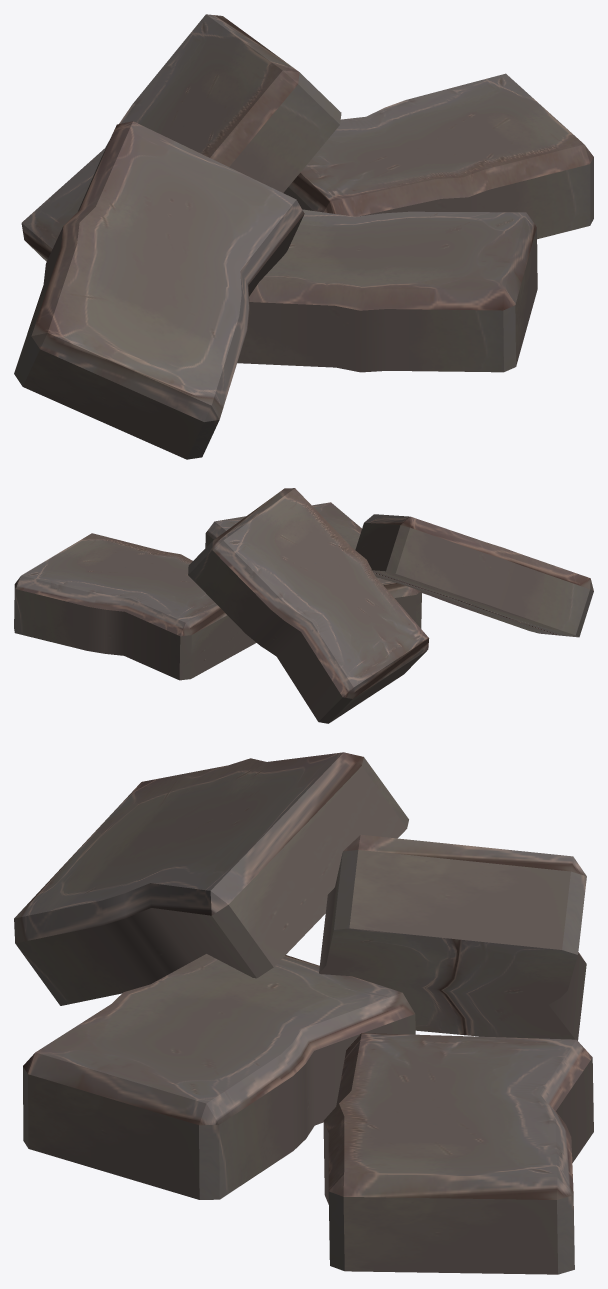
The model's file is BrickSmallPile2.fbx.
3 views of the same model, one above another, from view 1: azimuth 30°, elevation 25°; view 2: azimuth 150°, elevation 25°; view 3: azimuth 270°, elevation 25° (orthographic). The views are drawn at different scales.
Parts seen in each view (by area): view 1: pCube62, pCube60, pCube59, pCube61; view 2: pCube61, pCube59, pCube62, pCube60; view 3: pCube60, pCube62, pCube59, pCube61.
Part boxes in pixels (x1=…): pCube62: x1=14, y1=121, x2=304, y2=459; pCube60: x1=237, y1=209, x2=537, y2=372; pCube59: x1=283, y1=73, x2=593, y2=239; pCube61: x1=21, y1=14, x2=341, y2=261; pCube61: x1=188, y1=488, x2=429, y2=723; pCube59: x1=14, y1=533, x2=256, y2=680; pCube62: x1=355, y1=514, x2=593, y2=637; pCube60: x1=205, y1=502, x2=421, y2=628; pCube60: x1=23, y1=954, x2=415, y2=1199; pCube62: x1=14, y1=752, x2=408, y2=1005; pCube59: x1=323, y1=1033, x2=593, y2=1274; pCube61: x1=319, y1=834, x2=586, y2=1040.
Bounding box in the file's own units: 113 × 40.69 × 73.38.
